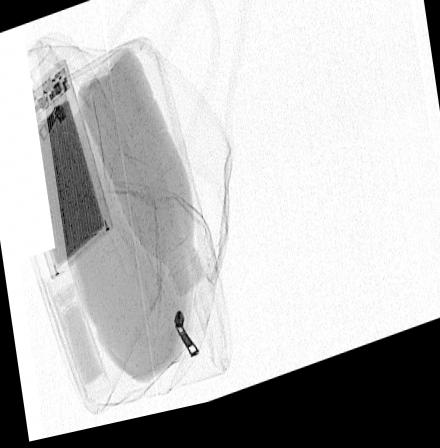Powerbank: (10, 62, 114, 282)
